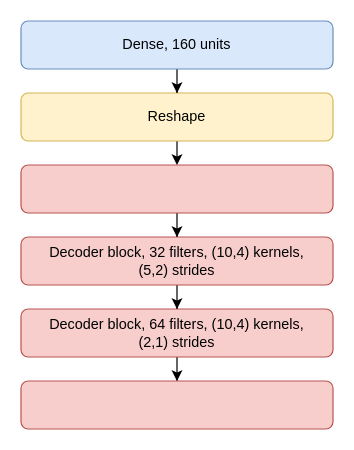
This 354x450 diagram has some shape labels left out. The shapes that lost their labels are listed below. From the top down, each one's centre as x and y in pixels, then its label:
the point at 176,188: Decoder block, 16 filters, (10,2) kernels, (2,2) strides
the point at 176,404: Decoder block, 1 filters, (10,4) kernels, no strides, activation AxisSoftmax
